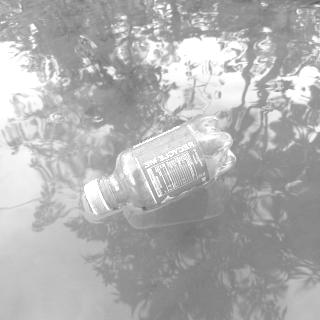bottle: (84, 113, 238, 214)
